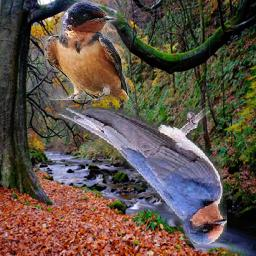Swallow: (59, 108, 228, 245), (45, 0, 130, 100)
